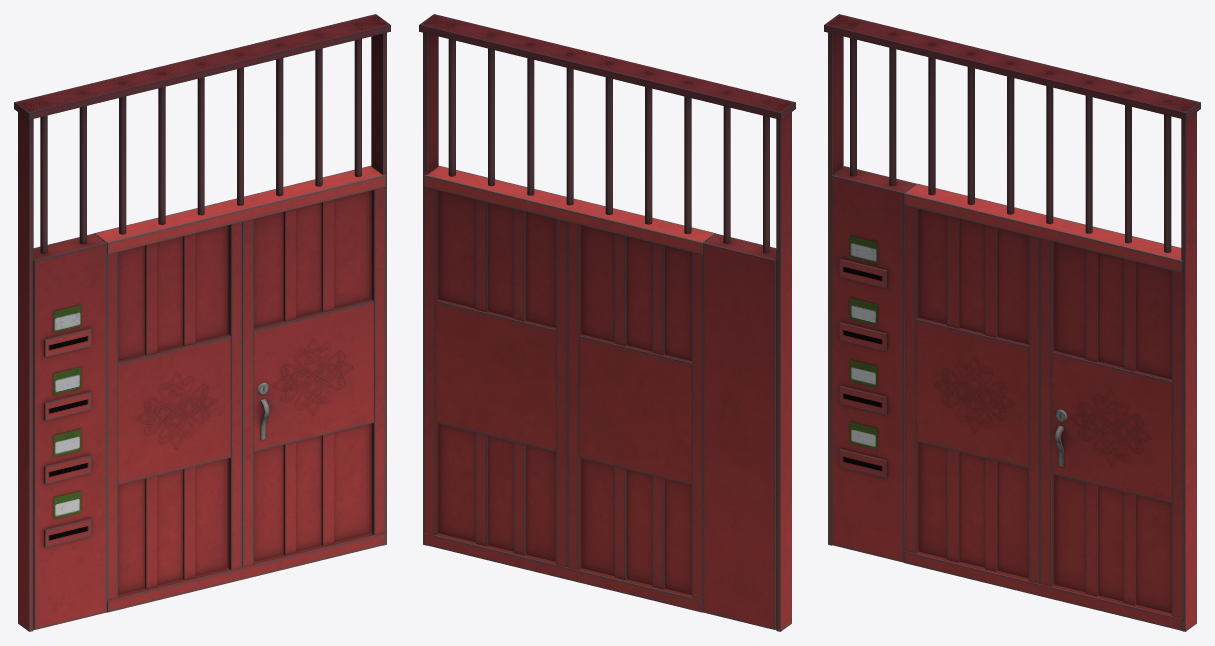
Rendered from IronDoor_v1.fbx.
The picture shows the model from 3 angles, left to right: view 1: azimuth 30°, elevation 25°; view 2: azimuth 150°, elevation 25°; view 3: azimuth 330°, elevation 25°; orthographic projection.
Visible parts, largest first — view 1: IronDoor_v1; view 2: IronDoor_v1; view 3: IronDoor_v1.
Part boxes in pixels (x1,y1,x2,y2): IronDoor_v1: (14, 14, 390, 631); IronDoor_v1: (419, 14, 795, 631); IronDoor_v1: (824, 14, 1200, 631).
Size of the model in its own units: 216 by 296 by 18.13.
